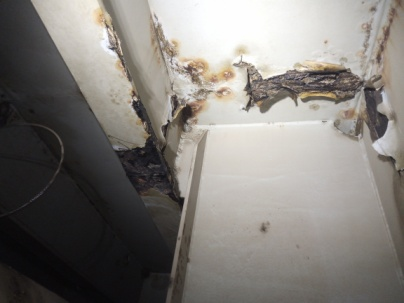corrosion: (232, 62, 364, 111), (116, 138, 182, 201), (341, 79, 395, 145), (175, 51, 232, 104), (158, 94, 211, 135), (94, 15, 134, 65), (361, 15, 401, 64), (145, 21, 179, 60), (125, 94, 159, 127)
